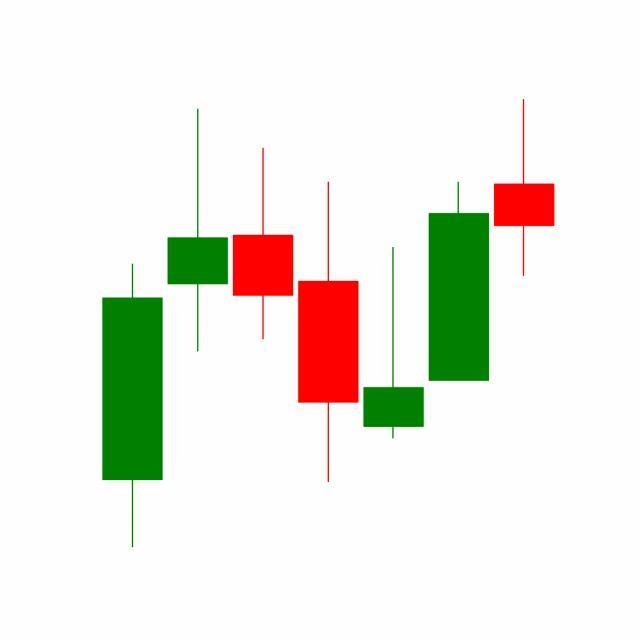Hikkake Pattern: (165, 105, 492, 487)
